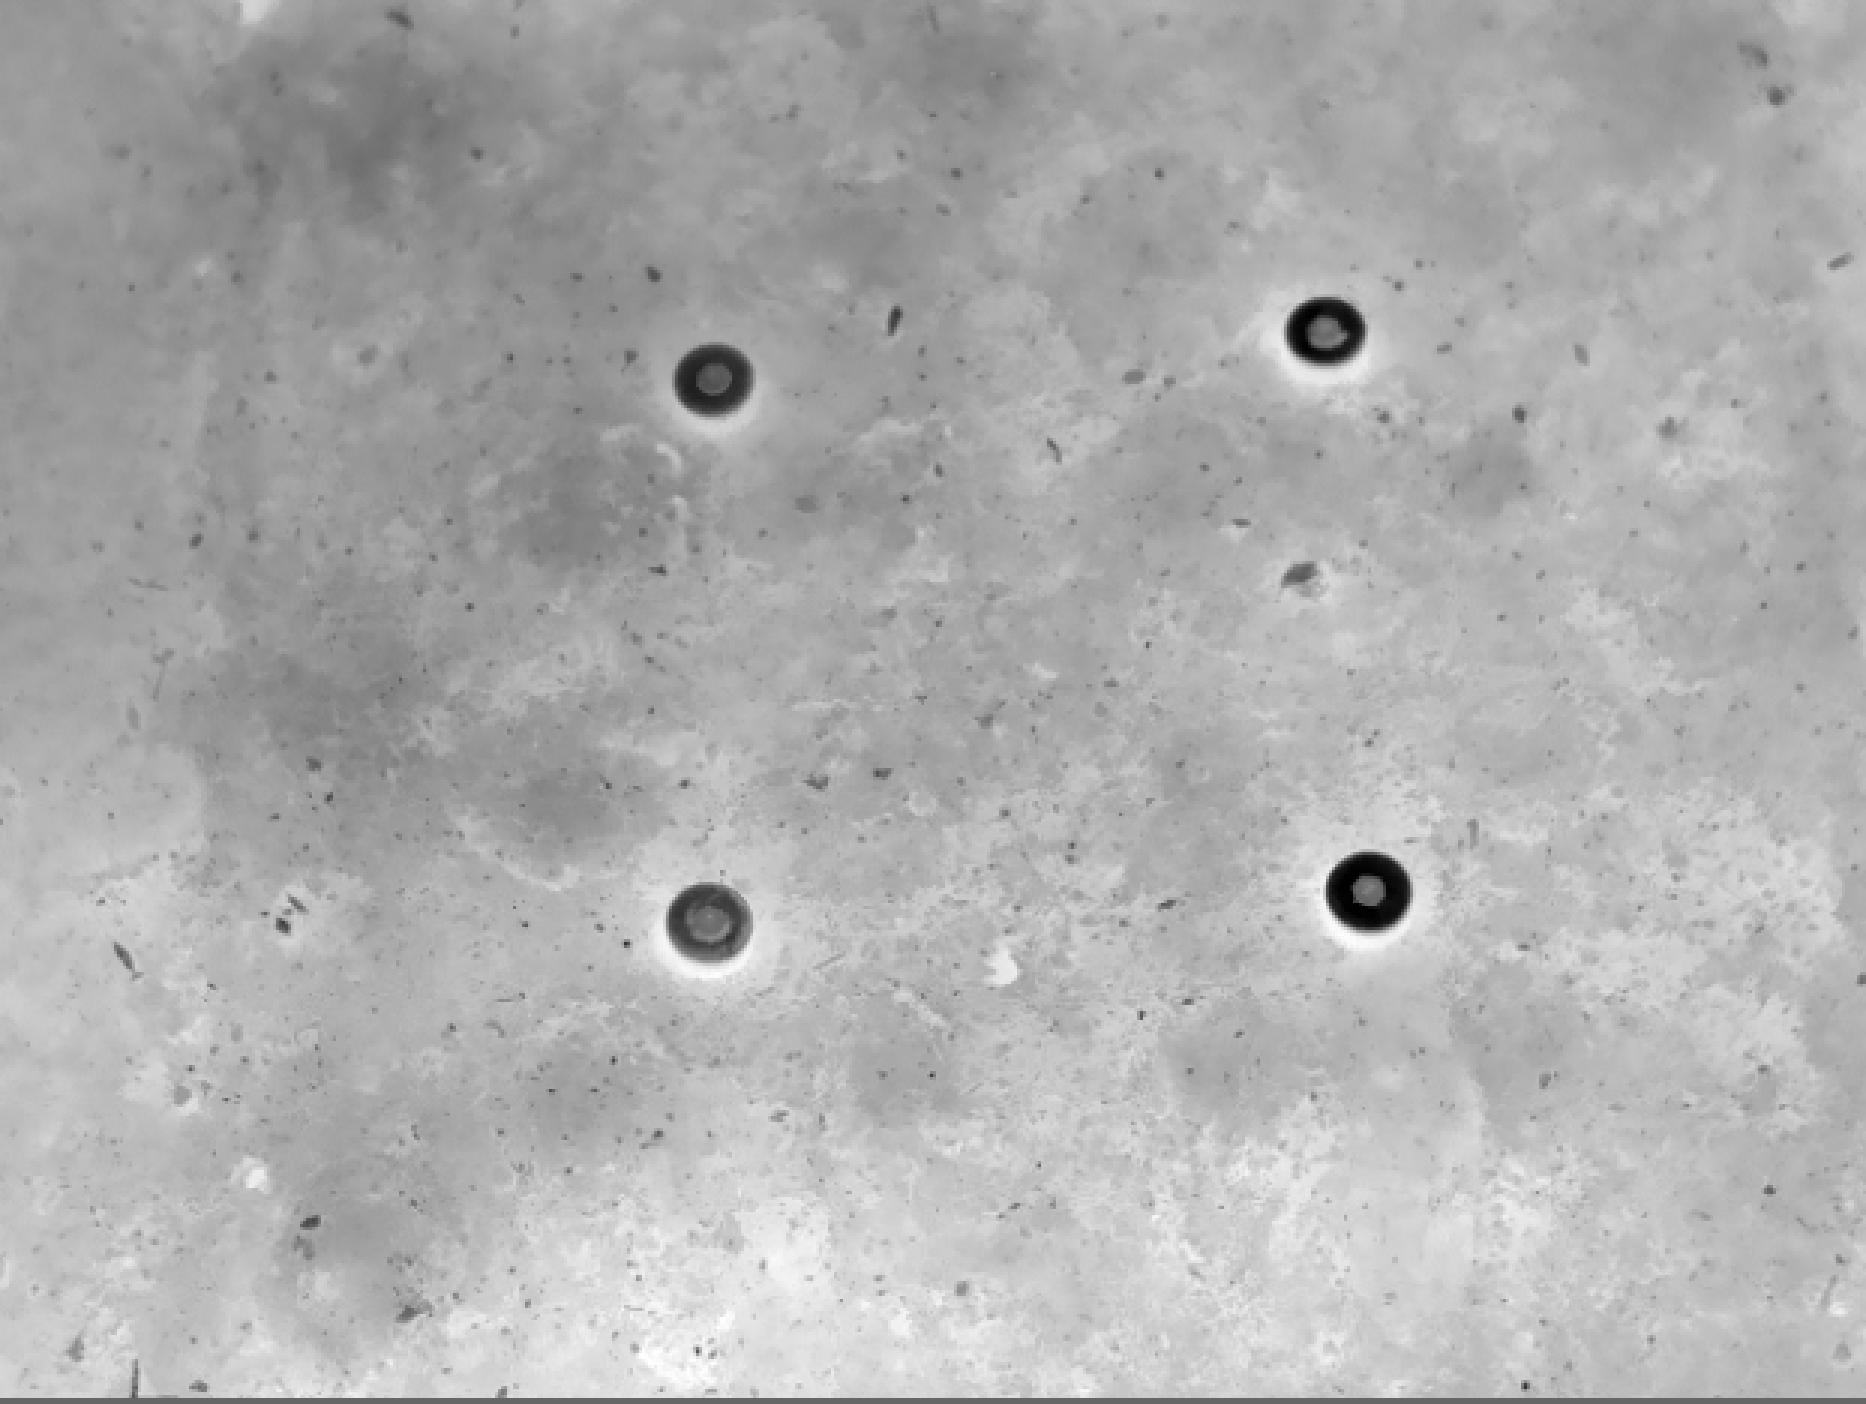mines-gjV8: (1325, 845, 1423, 948), (681, 872, 766, 954), (676, 338, 763, 416), (1282, 295, 1370, 364)
